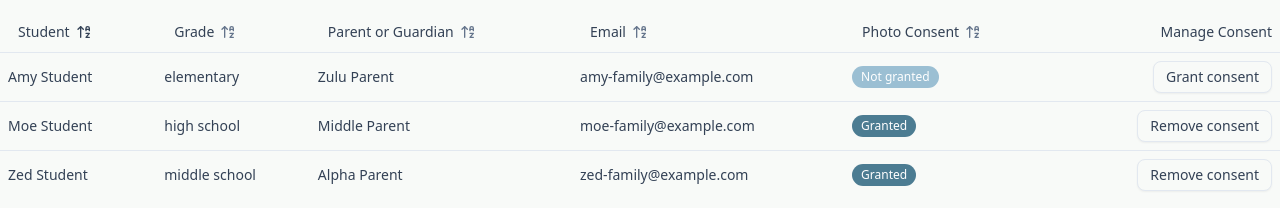
Test: PhotoConsentTable consent controls › disables the control while saving to prevent duplicate submissions
Click the button with aria-label "Grant photo consent for Amy Student".
click(1212, 76)  # box top-left (1153, 60), bottom-right (1272, 92)
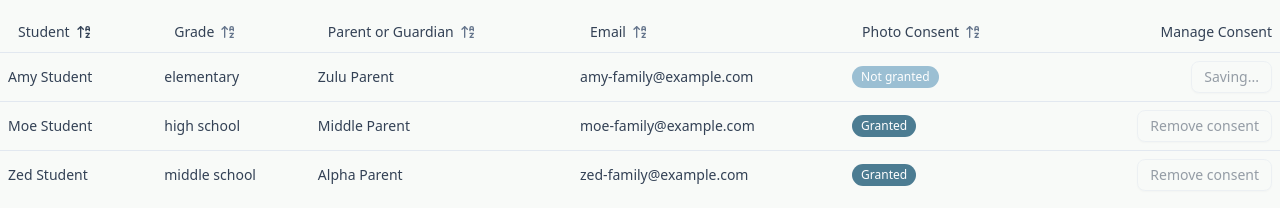
Check: the button with aria-label "Grant photo consent for Amy Student" is disabled
Click the button with aria-label "Grant photo consent for Amy Student".
click(1232, 76)  # box top-left (1191, 60), bottom-right (1272, 92)
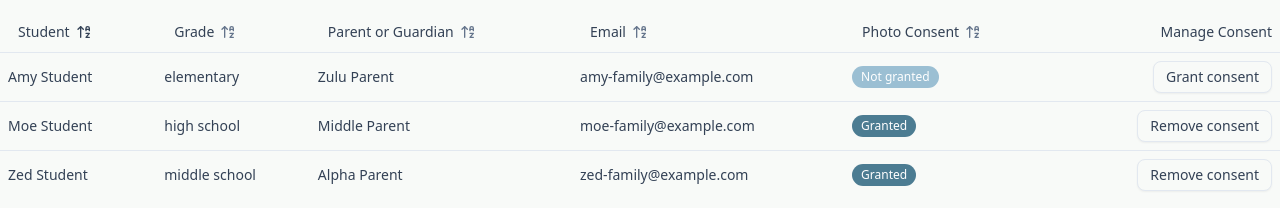
Check: the button with aria-label "Grant photo consent for Amy Student" is enabled, box top-left (1153, 60), bottom-right (1272, 92)
